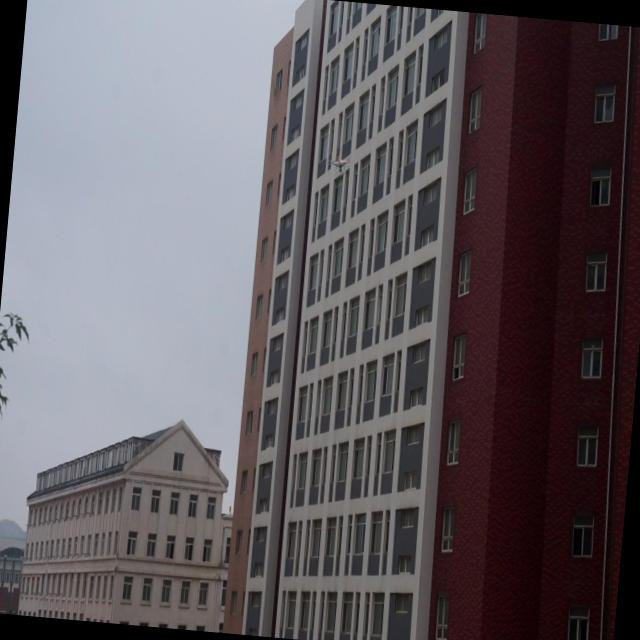drone: (331, 154, 348, 178)
